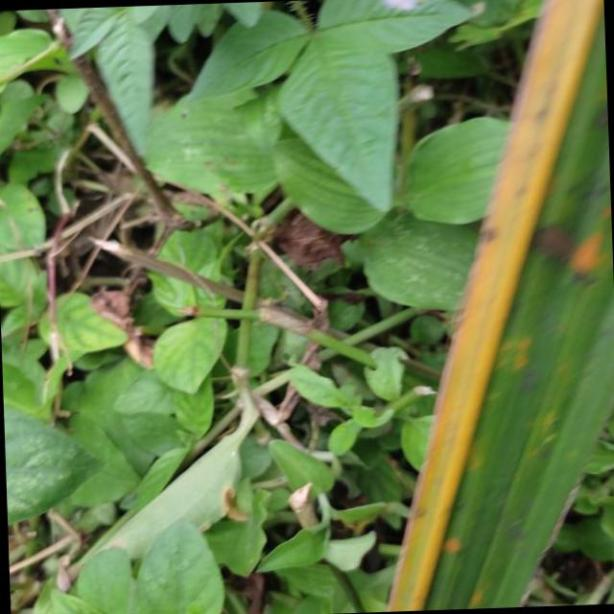Megnesium: (388, 0, 614, 614)
